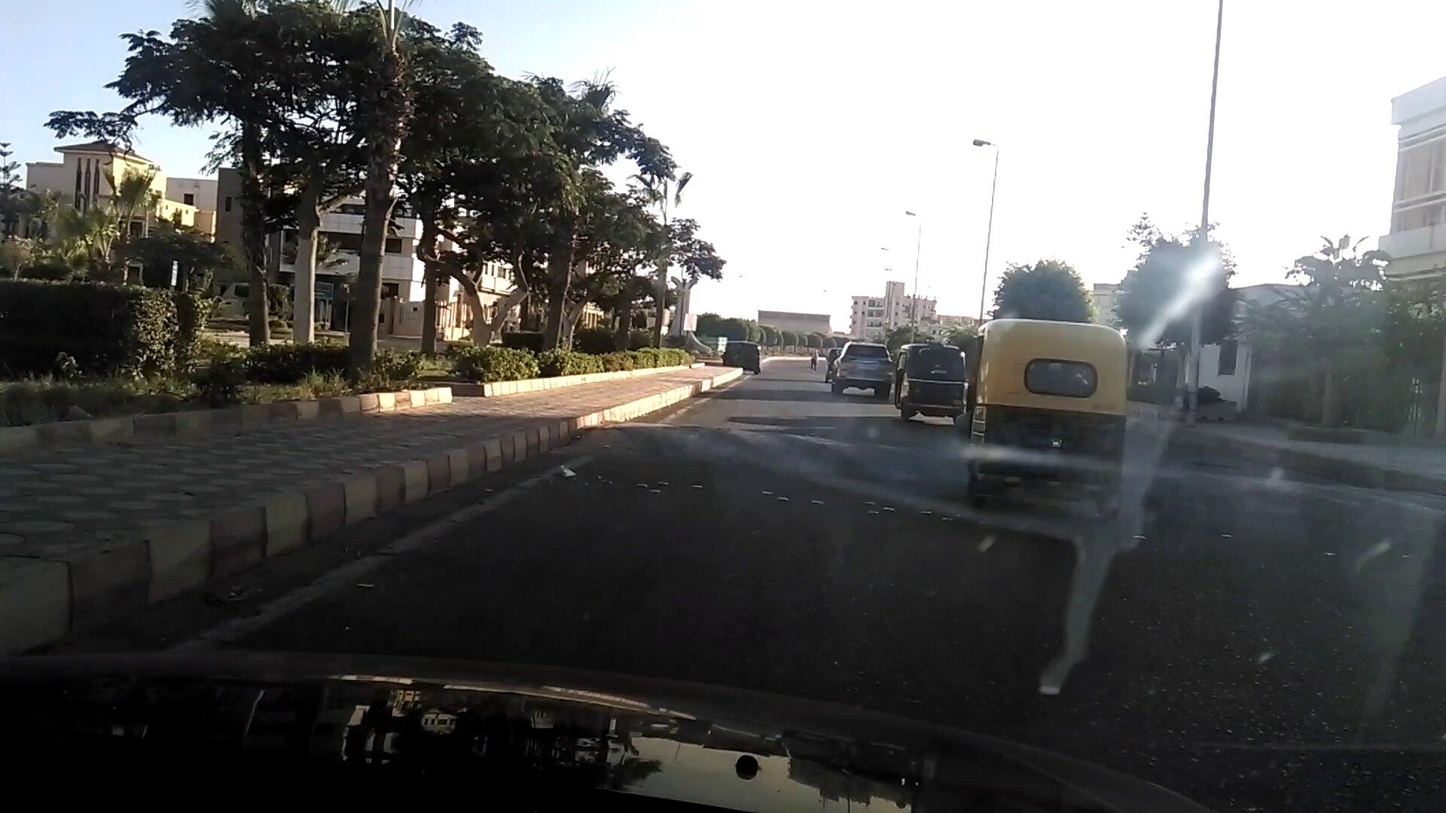Bump: (591, 414, 951, 482), (1133, 431, 1371, 491)
